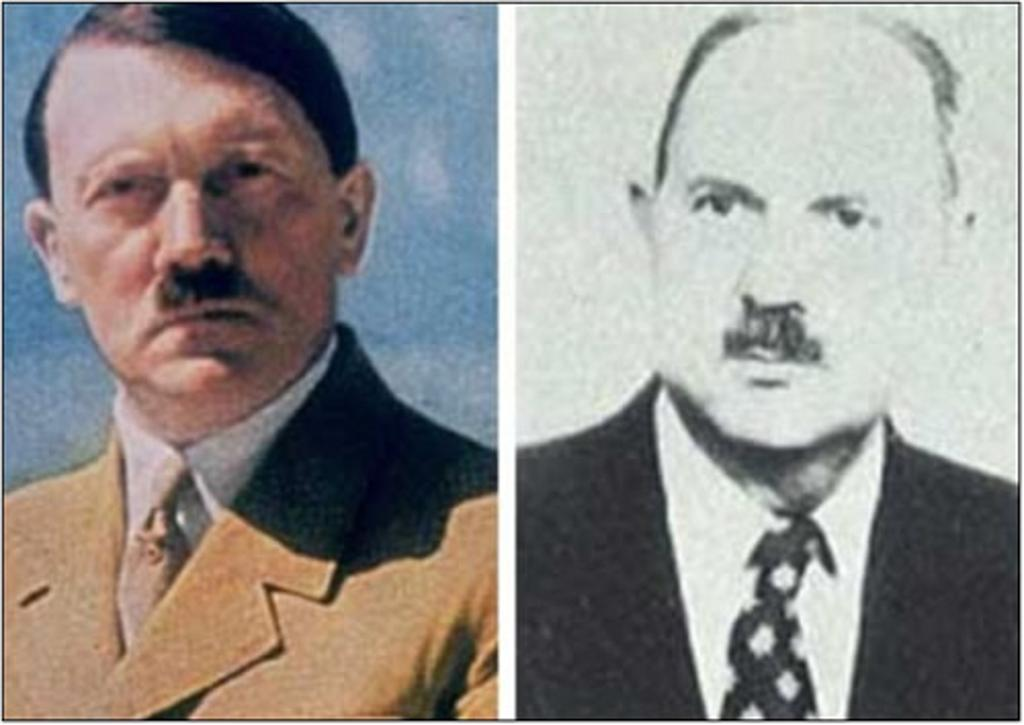face: (658, 36, 952, 448), (48, 46, 334, 390)
